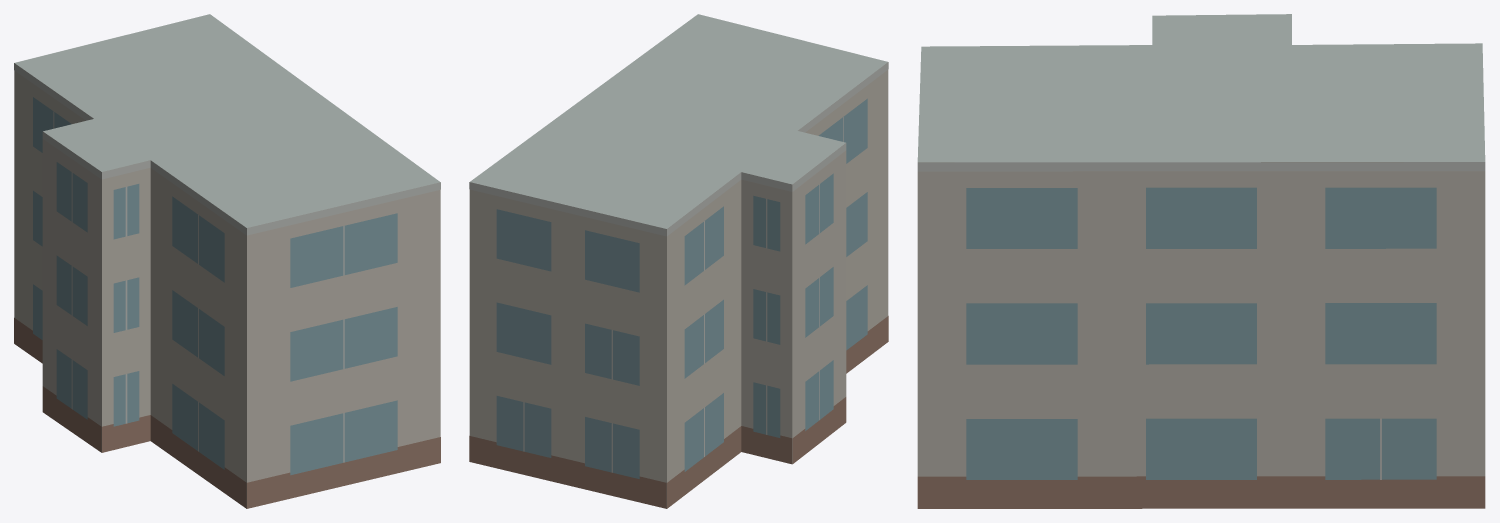
File: survey-upis-32859147.glb
3 renders of one model, left to right at view 1: azimuth 30°, elevation 25°; view 2: azimuth 150°, elevation 25°; view 3: azimuth 270°, elevation 25°, orthographic. The views are drawn at different scales.
Visible parts, largest first — view 1: survey-upis-32859147.tmp; view 2: survey-upis-32859147.tmp; view 3: survey-upis-32859147.tmp.
Part boxes in pixels (x1=…): survey-upis-32859147.tmp: x1=14, y1=14, x2=440, y2=508; survey-upis-32859147.tmp: x1=469, y1=14, x2=888, y2=508; survey-upis-32859147.tmp: x1=917, y1=14, x2=1485, y2=508.
Size of the model in its own units: 8.41 by 9.15 by 13.6.
